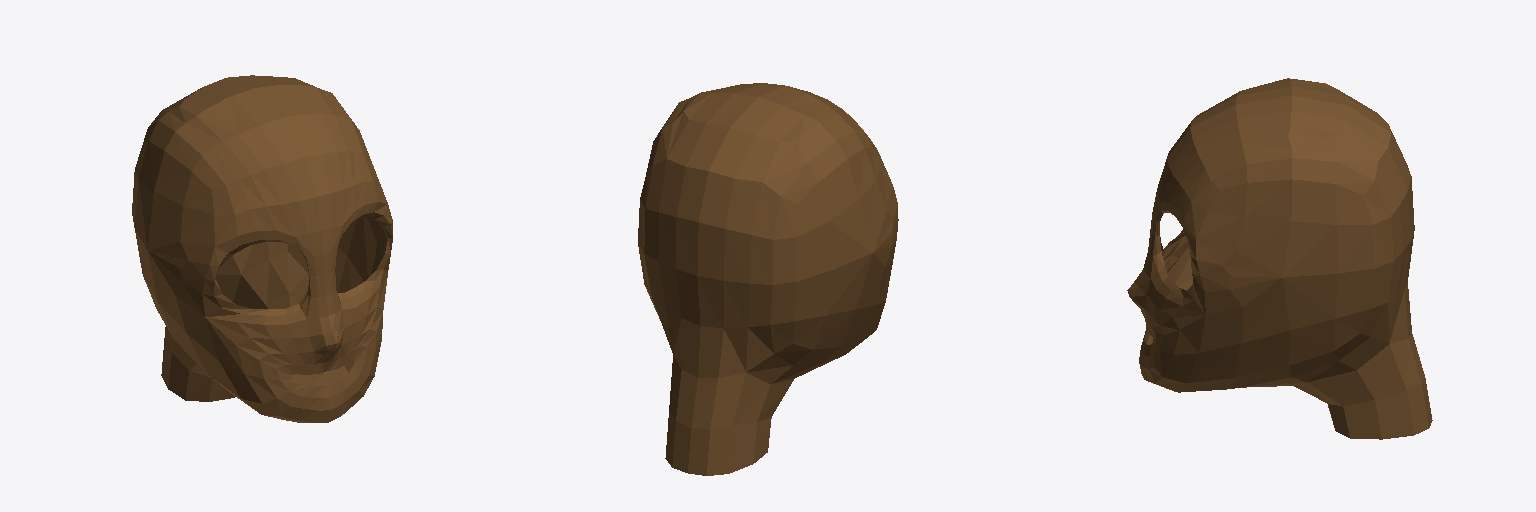
File: head.obj
3 renders of one model, left to right at view 1: azimuth 30°, elevation 25°; view 2: azimuth 150°, elevation 25°; view 3: azimuth 270°, elevation 25°, orthographic.
Parts seen in each view (by area): view 1: pasted__pCube1 group; view 2: pasted__pCube1 group; view 3: pasted__pCube1 group.
Part boxes in pixels (left/top/right/bottom): pasted__pCube1 group: left=132, top=75, right=392, bottom=422; pasted__pCube1 group: left=638, top=83, right=898, bottom=475; pasted__pCube1 group: left=1127, top=78, right=1432, bottom=439.
Size of the model in its own units: 6.04 by 8.77 by 7.46.